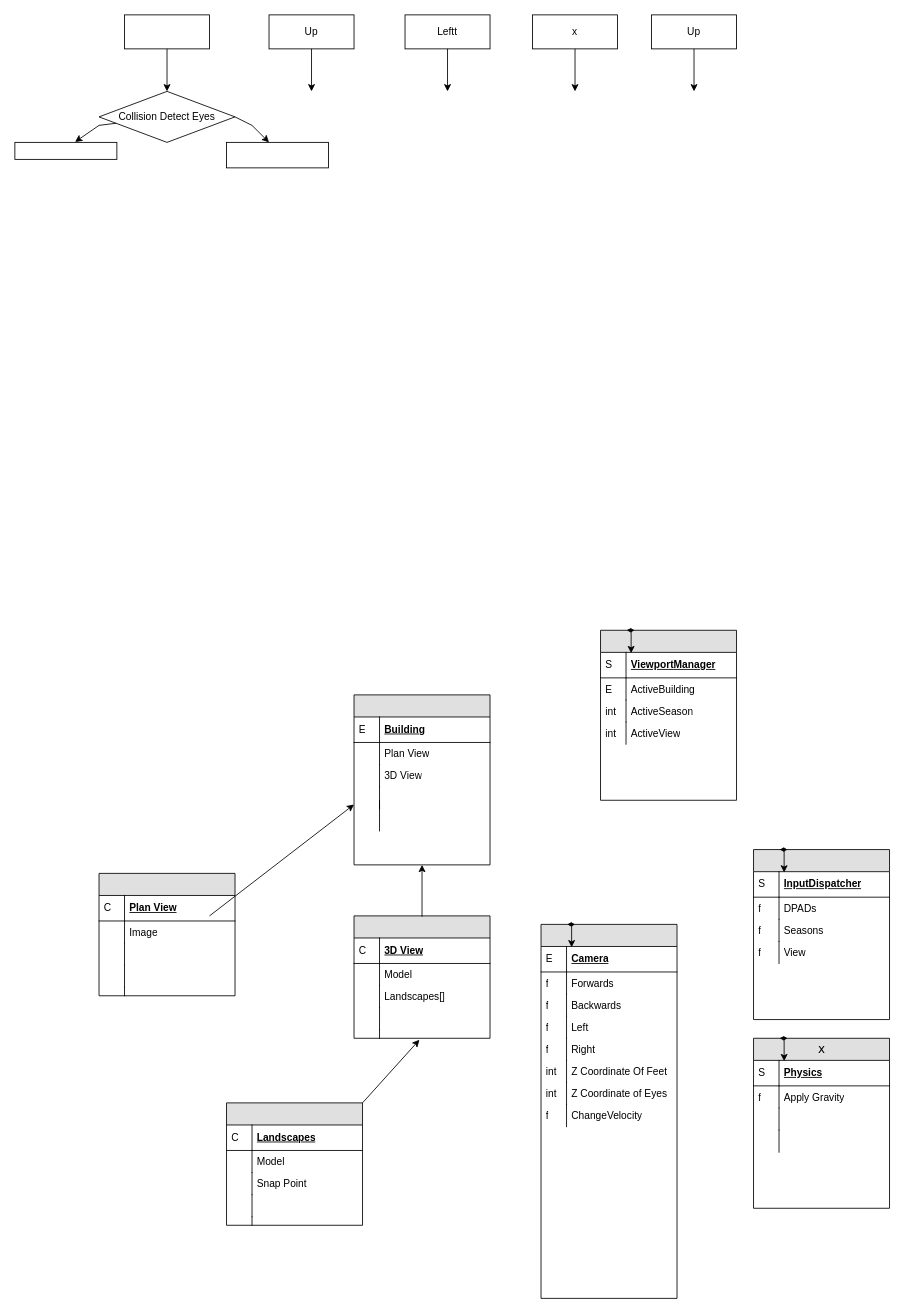
Image size: 904x1313. Some labels were removed from this diagram. The shapes that lost their labels are listed below. From the top down, each one's centre as x and y in pixels, then its label:
the point at 167,31: DPAD
the point at 65,150: Hits X[]
the point at 277,155: No Hits[]
